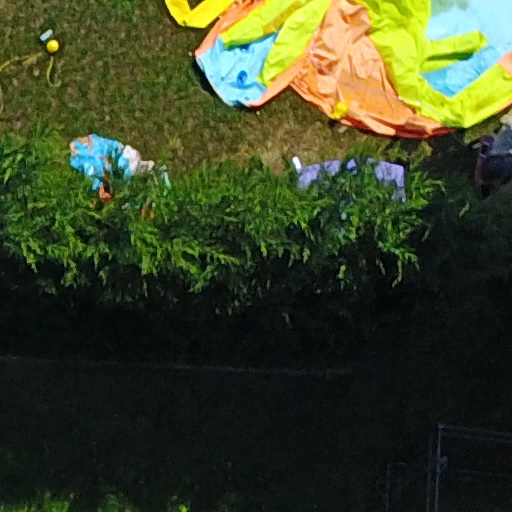toy: (122, 1, 512, 157), (272, 139, 440, 233), (61, 126, 214, 214), (28, 17, 91, 88)
